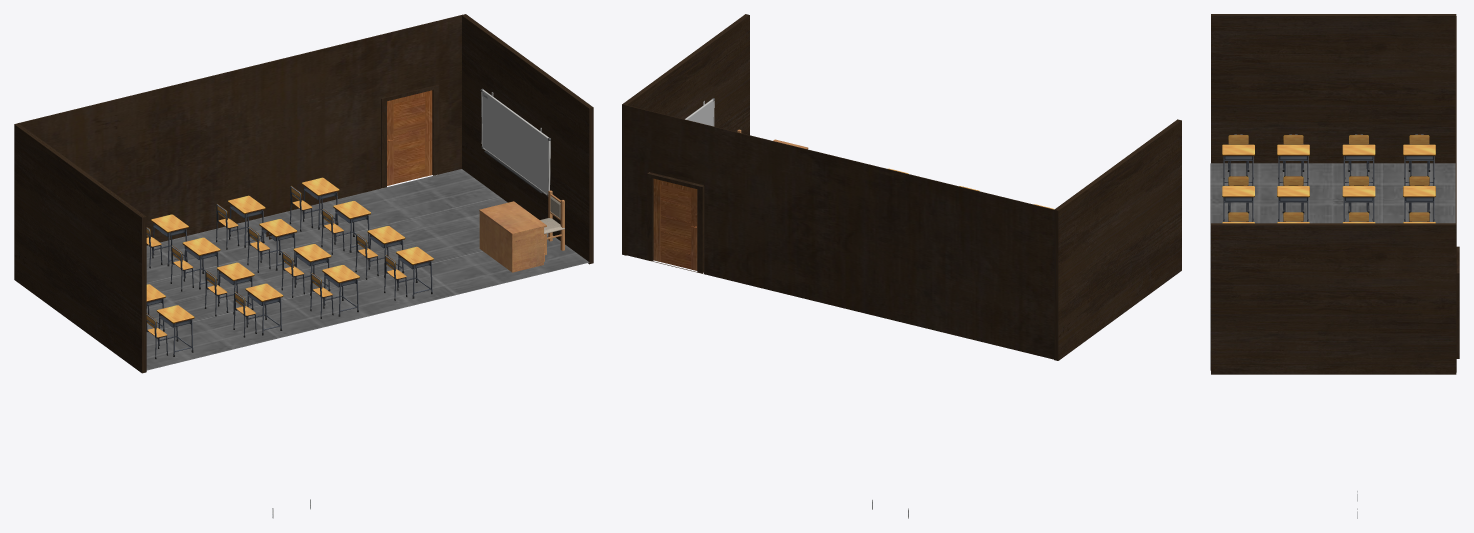
File: interior_kelas1.fbx
3 views of the same model, side by side, from view 1: azimuth 30°, elevation 25°; view 2: azimuth 150°, elevation 25°; view 3: azimuth 270°, elevation 25° (orthographic). The views are drawn at different scales.
Parts seen in each view (by area): view 1: Cube.018, Plane, Cube.001, Cube.002, White_board, Door, table_LP, Door_Frame, japanschooldesk.002, japanschooldesk.007, japanschooldesk.010, japanschooldesk.012 (+9 smaller); view 2: Cube.018, Cube.001, Cube.002, Door, Door_Frame; view 3: Cube.002, Cube.001, Plane, japanschooldesk.015, japanschooldesk.005, japanschooldesk.010, japanschooldesk.016, japanschooldesk.003, japanschooldesk.002, japanschooldesk.001, japanschooldesk.004, Cube.018 (+5 smaller).
Boxes of the visible parts, x1,y1,x2,y2 form: Cube.018: (18,14,462,245); Plane: (146,169,589,370); Cube.001: (14,123,146,373); Cube.002: (462,14,593,264); White_board: (480,88,550,196); Door: (387,90,432,185); table_LP: (479,201,546,272); Door_Frame: (381,84,439,188); japanschooldesk.002: (245,283,283,335); japanschooldesk.007: (322,265,359,316); japanschooldesk.010: (156,305,194,356); japanschooldesk.012: (396,246,433,298); Cube.018: (624,105,1054,359); Cube.001: (1054,119,1181,360); Cube.002: (622,14,749,255); Door: (653,178,697,270); Door_Frame: (647,172,704,273); Cube.002: (1211,223,1456,374); Cube.001: (1211,14,1456,163); Plane: (1210,163,1455,370); japanschooldesk.015: (1342,144,1375,185); japanschooldesk.005: (1277,144,1309,185); japanschooldesk.010: (1222,144,1254,185); japanschooldesk.016: (1403,144,1435,185); japanschooldesk.003: (1342,186,1375,221); japanschooldesk.002: (1222,186,1254,221); japanschooldesk.001: (1277,186,1309,221); japanschooldesk.004: (1403,186,1435,221); Cube.018: (1455,16,1456,372).
Size of the model in its own units: 21.05 by 10.16 by 17.58.
Materials: 23 (23 with a texture image).
